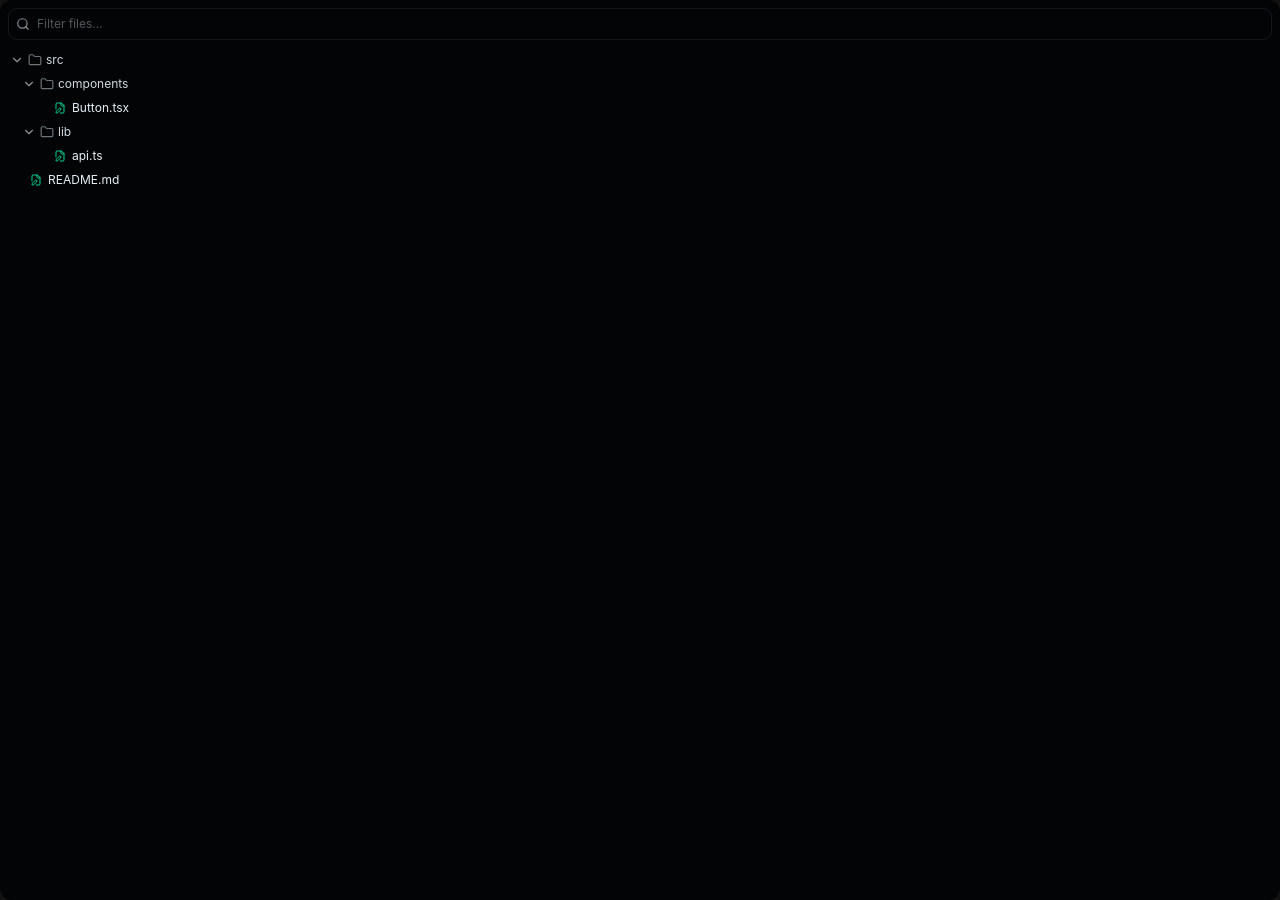
Test: DiffFileTree › filtering › matches on directory segments, not just file names
Type "lib" into the field with placeholder "Filter files…" at (640, 24), box [8,8,1272,40]
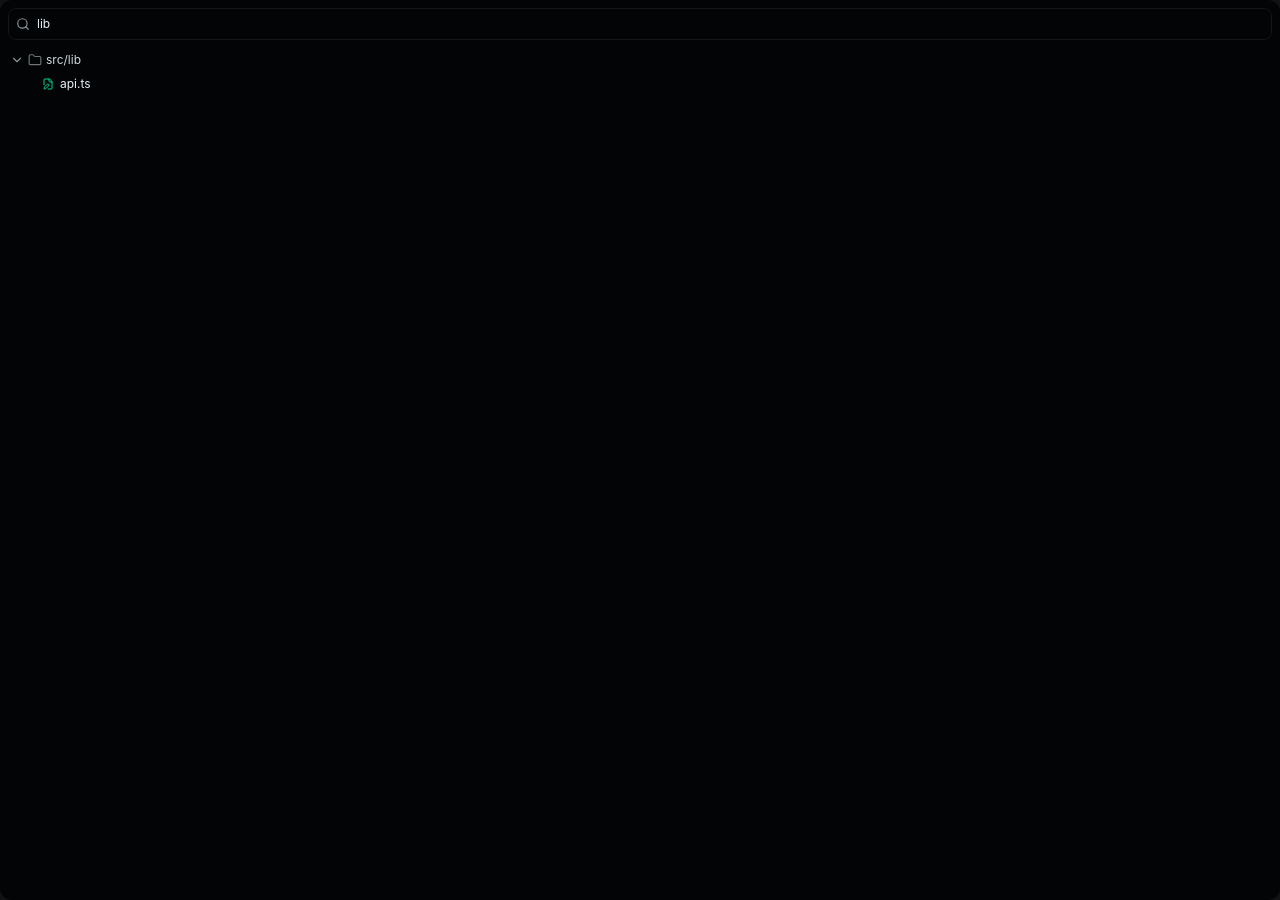
Expected: the text "api.ts" is shown, [60,75,91,93]
Result: the text "Button.tsx" is gone
